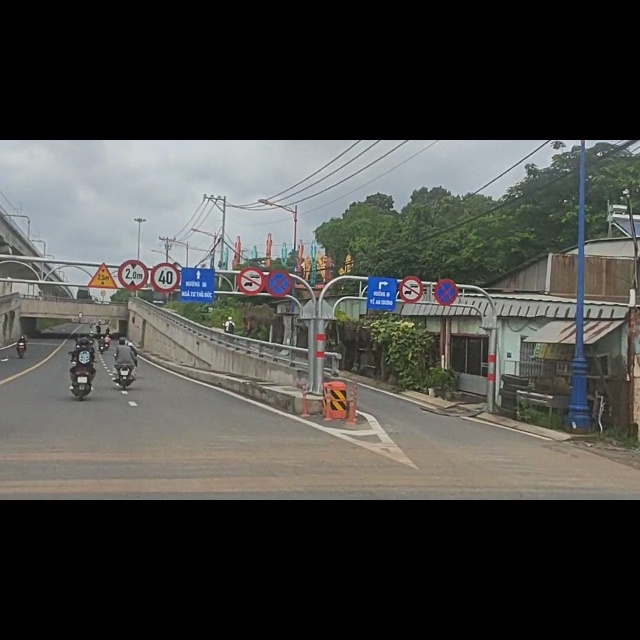bien_chi_dan: (117, 212, 149, 267), (151, 216, 180, 273), (265, 228, 295, 280), (235, 225, 265, 276), (398, 239, 425, 292), (87, 217, 117, 264), (435, 245, 459, 294)
